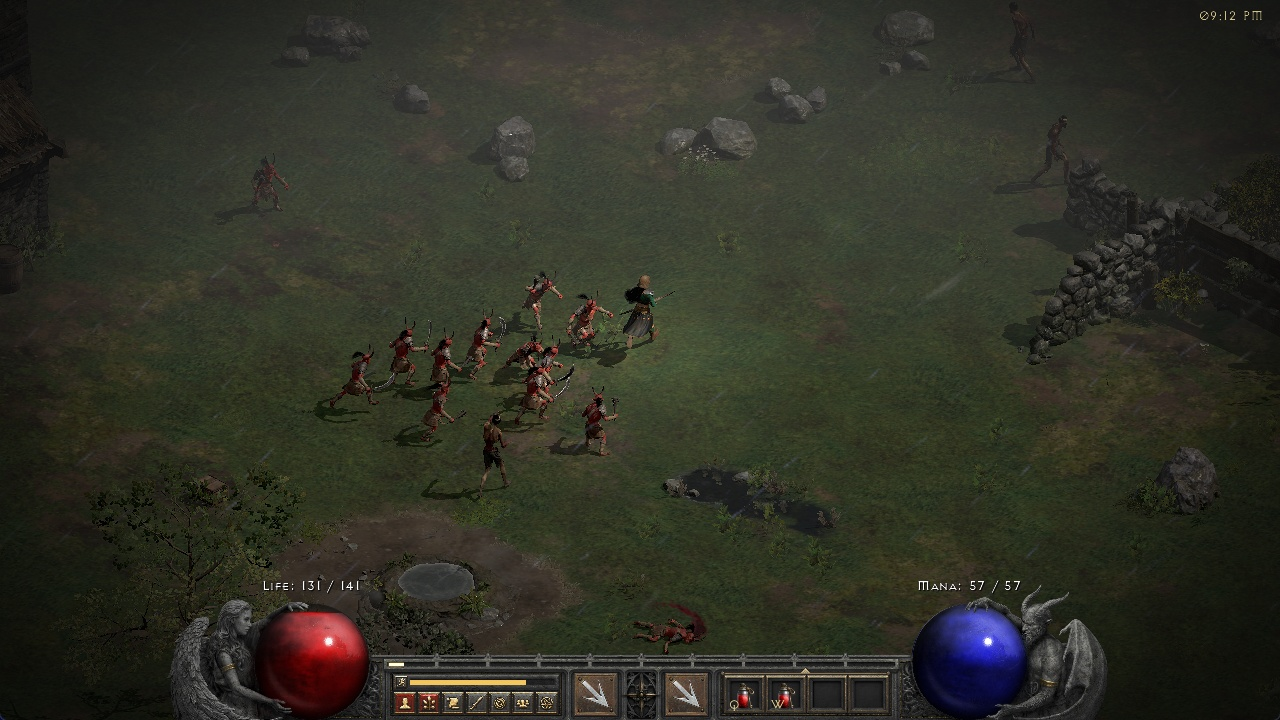fallen: (575, 384, 626, 460), (242, 151, 296, 218), (333, 349, 389, 405), (380, 321, 428, 376), (568, 292, 618, 342), (467, 309, 510, 367), (518, 278, 564, 325), (416, 384, 456, 438), (426, 334, 467, 382), (520, 374, 559, 420), (538, 342, 561, 374), (516, 336, 536, 364)
